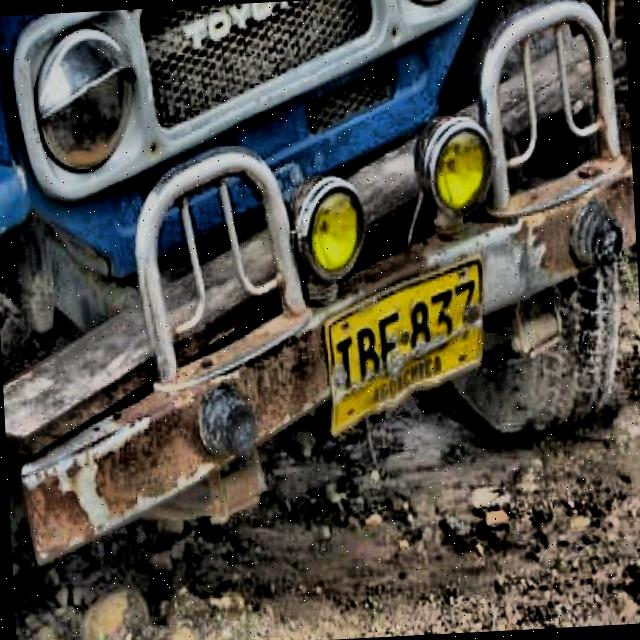3: (430, 286, 458, 352)
7: (455, 278, 476, 343)
8: (407, 297, 437, 362)
B: (355, 323, 383, 387)
F: (378, 309, 405, 381)
T: (334, 334, 358, 394)
